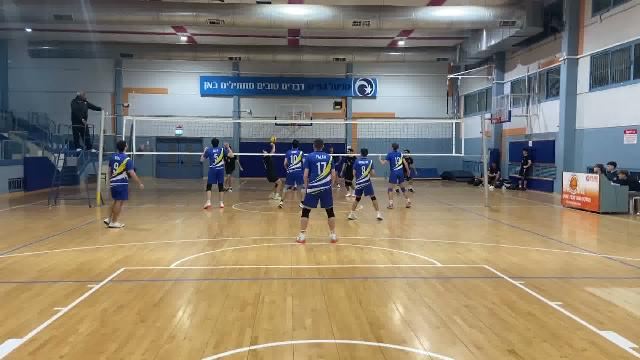ball: (269, 135, 279, 145)
